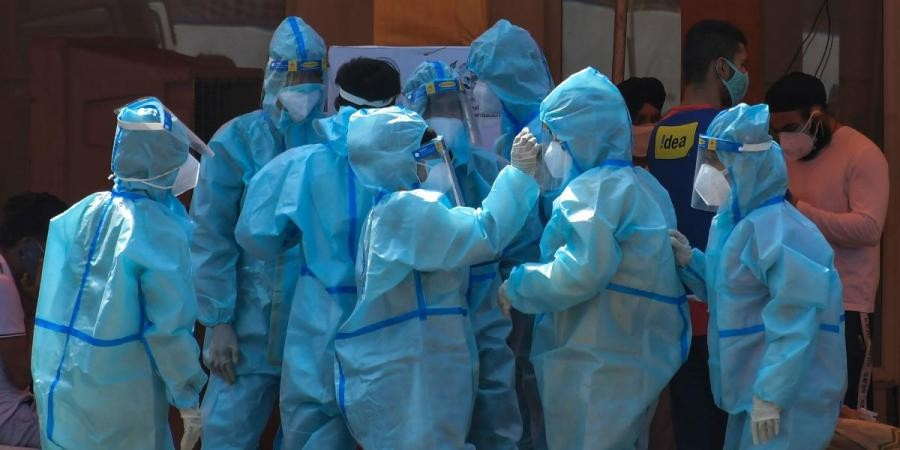Coverall: (508, 65, 694, 450), (337, 105, 543, 450), (187, 13, 332, 450), (27, 93, 205, 446), (685, 99, 850, 450), (233, 138, 407, 450), (447, 14, 570, 450), (401, 52, 531, 450)
Face_Shield: (680, 133, 776, 218), (111, 92, 216, 167), (414, 78, 471, 160), (265, 58, 329, 124), (403, 131, 452, 201), (532, 126, 574, 198)
Gloves: (202, 324, 246, 392), (507, 122, 546, 185), (747, 394, 785, 448), (665, 224, 694, 278), (176, 405, 204, 450)
with_mask: (690, 151, 731, 207), (426, 99, 466, 155), (773, 114, 815, 160), (283, 74, 323, 120), (168, 145, 200, 201), (719, 50, 750, 106), (417, 148, 451, 196), (544, 132, 575, 180), (467, 76, 502, 116)
